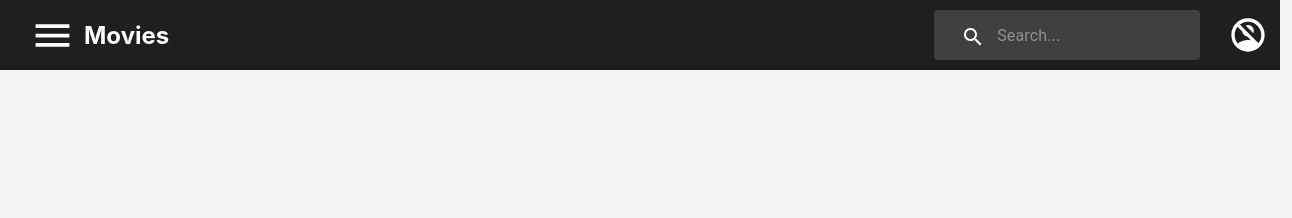
Test: render Header › should open left menu with Home menu item when menu was clicked
Click the button with test id "MenuIcon".
click(52, 35)  # box [20,6,84,64]
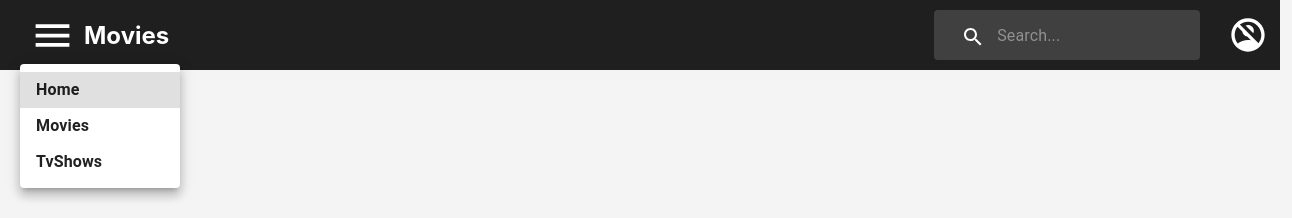
expect the menu item "Home" is shown: met, box [20,72,180,108]
